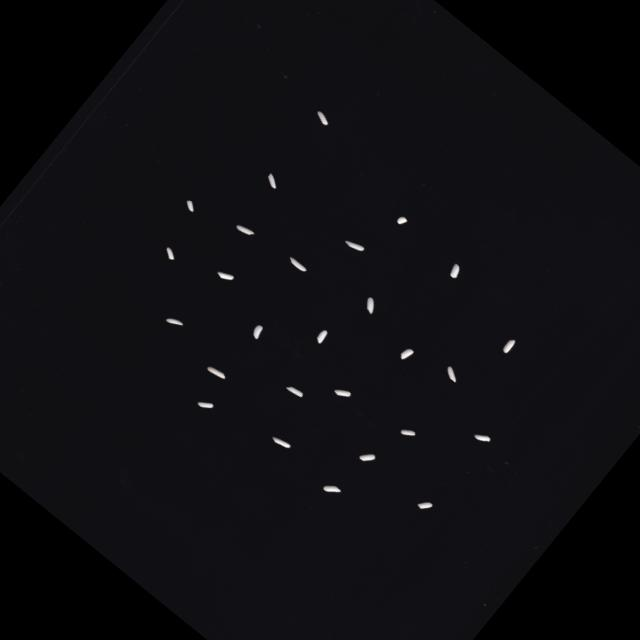Not: (344, 236, 365, 255), (206, 363, 227, 382), (270, 434, 290, 452), (322, 481, 341, 499), (333, 384, 352, 402), (358, 448, 376, 466), (288, 256, 306, 274), (442, 366, 460, 383), (473, 429, 491, 446), (362, 296, 379, 314), (196, 396, 214, 413), (264, 173, 281, 190), (236, 222, 253, 239), (216, 268, 234, 284), (398, 346, 414, 363), (314, 110, 331, 126), (165, 314, 182, 330), (286, 384, 304, 399), (400, 425, 416, 441), (501, 338, 516, 354), (417, 498, 432, 513), (448, 264, 462, 280), (250, 324, 264, 340), (163, 248, 177, 262), (184, 199, 198, 213), (316, 330, 328, 344), (396, 215, 408, 227)
